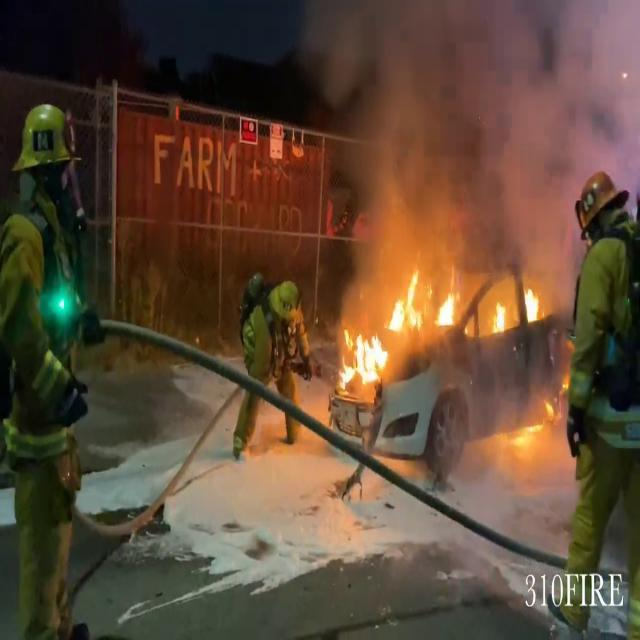Fire: (334, 259, 547, 395), (334, 322, 394, 392), (521, 284, 545, 328)
Smoke: (302, 0, 639, 261)
